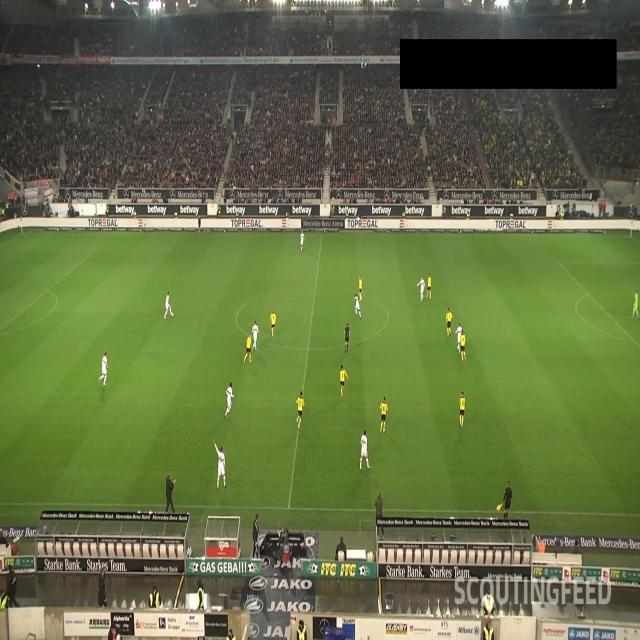ball: (172, 312, 174, 317)
